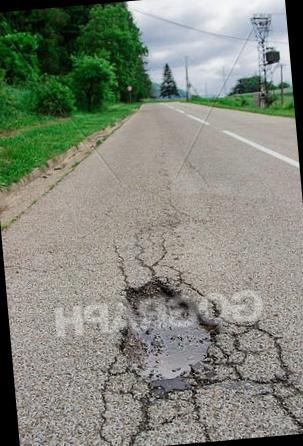pothole: (95, 266, 248, 412)
